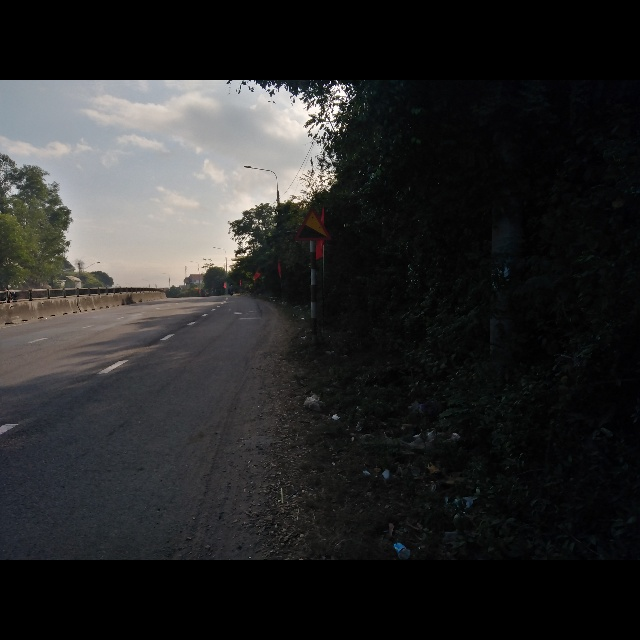Dốc lên nguy hiểm: (295, 208, 332, 241)
